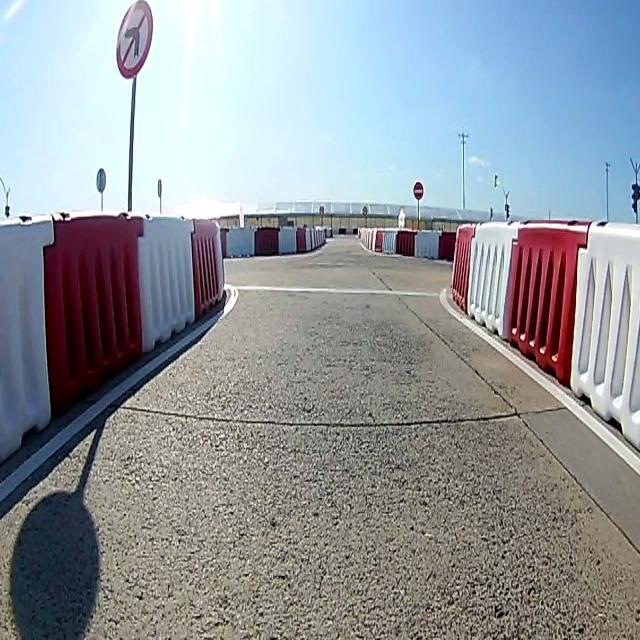girisyok: (412, 181, 425, 202)
soladonulmez: (116, 3, 152, 79)
